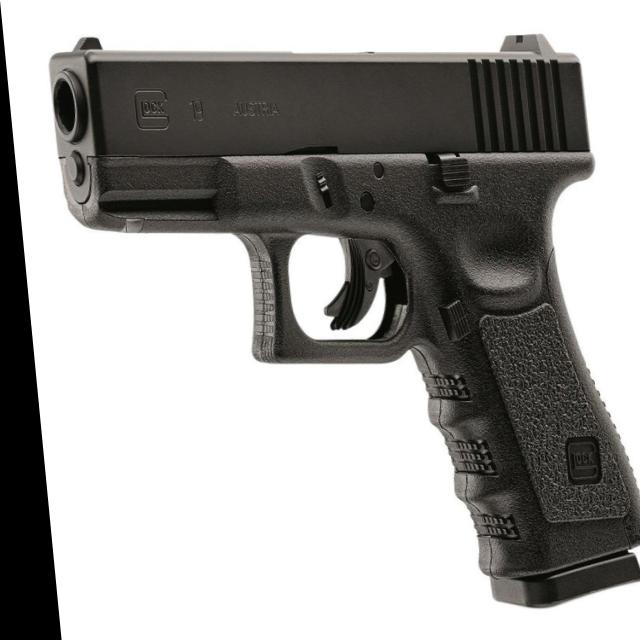handgun: (29, 32, 640, 628)
